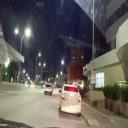NoEstacionar: (92, 62, 96, 70)
